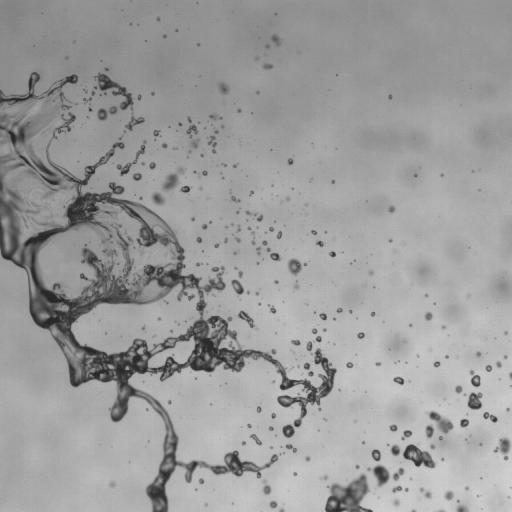droplet: (91, 73, 132, 120), (324, 474, 372, 511), (366, 449, 404, 487), (403, 444, 436, 468), (425, 410, 453, 438), (494, 437, 511, 460), (287, 258, 305, 275), (467, 392, 482, 409), (469, 370, 480, 386), (151, 192, 164, 205), (186, 124, 197, 136), (389, 444, 400, 456), (219, 83, 229, 94), (401, 430, 412, 439), (455, 504, 468, 511), (271, 35, 280, 45), (444, 490, 453, 500), (180, 185, 191, 193), (393, 376, 404, 384), (270, 252, 280, 260), (191, 139, 199, 148), (460, 418, 468, 427), (392, 486, 402, 492), (133, 173, 141, 180), (269, 305, 276, 313), (425, 312, 432, 320), (455, 385, 462, 393), (389, 424, 397, 431), (269, 501, 277, 508), (291, 339, 300, 345), (316, 239, 323, 246), (319, 313, 326, 320), (231, 196, 239, 202), (263, 64, 272, 69), (209, 114, 218, 119), (84, 97, 91, 103), (153, 130, 159, 137), (149, 162, 155, 169), (357, 332, 364, 338), (433, 361, 440, 367), (485, 365, 492, 371), (393, 499, 399, 506), (287, 158, 293, 164), (388, 206, 394, 212), (329, 251, 335, 257), (315, 336, 321, 342), (109, 481, 115, 487), (294, 283, 299, 290), (346, 362, 353, 367), (496, 361, 501, 367), (321, 475, 327, 480), (277, 231, 281, 238), (256, 247, 260, 254), (162, 143, 167, 148), (202, 224, 207, 229), (196, 237, 201, 242), (235, 237, 240, 242), (262, 240, 267, 245), (337, 308, 342, 313), (312, 328, 317, 333), (476, 351, 481, 356), (305, 456, 310, 461), (238, 271, 242, 277), (257, 406, 261, 412), (199, 478, 203, 484), (202, 171, 207, 175), (311, 230, 316, 234), (251, 239, 255, 244), (196, 262, 201, 266), (368, 270, 373, 274), (271, 413, 275, 418), (430, 444, 434, 449), (137, 95, 141, 99), (237, 108, 241, 112), (187, 117, 191, 121), (269, 227, 273, 231), (215, 243, 219, 247), (266, 247, 270, 251), (441, 325, 445, 329), (269, 426, 273, 430), (355, 465, 359, 469), (237, 226, 240, 231), (279, 508, 284, 511), (233, 164, 237, 167), (250, 191, 253, 195), (251, 231, 254, 235), (224, 238, 227, 242), (371, 312, 374, 316), (376, 362, 380, 365), (439, 436, 442, 440), (411, 509, 416, 511), (388, 95, 391, 98), (88, 108, 91, 111), (331, 180, 334, 183), (286, 197, 289, 200), (255, 292, 258, 295), (248, 424, 251, 427), (242, 441, 245, 444), (293, 472, 296, 475), (465, 487, 468, 490), (405, 488, 408, 491), (163, 35, 166, 37), (215, 130, 217, 133), (200, 154, 203, 156), (142, 162, 144, 165), (414, 174, 417, 176), (440, 174, 443, 176), (191, 218, 194, 220), (225, 225, 227, 228), (248, 227, 250, 230), (389, 239, 391, 242), (256, 262, 259, 264), (275, 280, 277, 283), (158, 317, 160, 320), (323, 328, 325, 331), (504, 332, 507, 334), (446, 355, 448, 358), (504, 356, 507, 358), (168, 401, 171, 403), (506, 409, 509, 411), (362, 441, 364, 444), (266, 45, 268, 47), (105, 68, 107, 70), (47, 113, 49, 115), (179, 123, 181, 125), (198, 174, 200, 176), (425, 294, 427, 296), (165, 301, 167, 303), (349, 310, 351, 312), (142, 326, 144, 328), (170, 330, 172, 332), (272, 381, 274, 383), (441, 458, 443, 460)
ligament: (0, 113, 336, 511), (0, 72, 77, 109), (116, 141, 146, 175), (51, 113, 75, 139), (162, 167, 185, 191), (237, 310, 255, 327), (231, 279, 248, 295), (125, 116, 144, 130), (245, 210, 262, 221), (483, 412, 497, 422), (208, 135, 216, 152), (262, 479, 271, 494), (303, 363, 313, 376), (250, 434, 261, 445), (420, 488, 431, 498), (286, 444, 296, 452), (47, 214, 52, 218), (436, 509, 445, 511), (509, 372, 511, 379)
